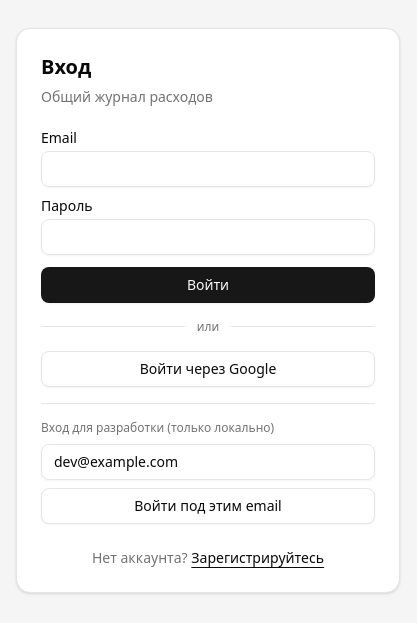
Test case: LoginPage — other entry points › dev-login still works and maps a 404
Click the button "Войти под этим email" at {"x": 208, "y": 506}, box [41,488,375,524]
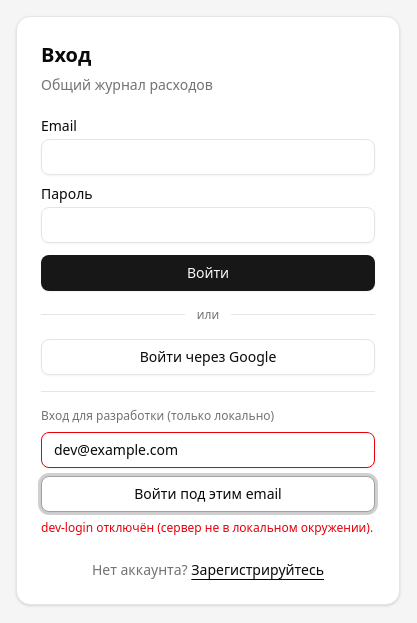
Expected: the text "dev-login отключён (сервер не в локальном окружении)." is shown, [41,520,375,536]
